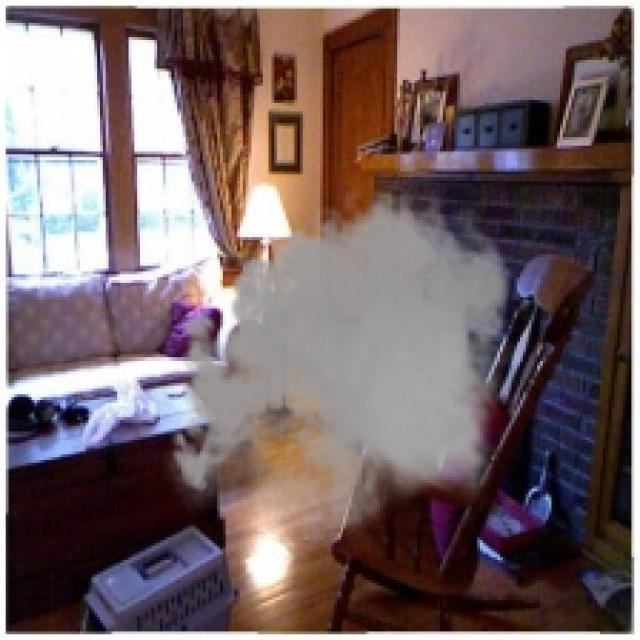smoke: (160, 180, 523, 551)
